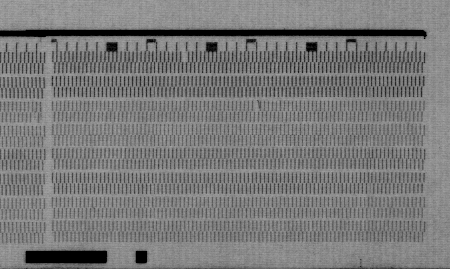Broken hole: (179, 50, 191, 63), (29, 111, 41, 124)
Oblique printing: (251, 99, 261, 114)
